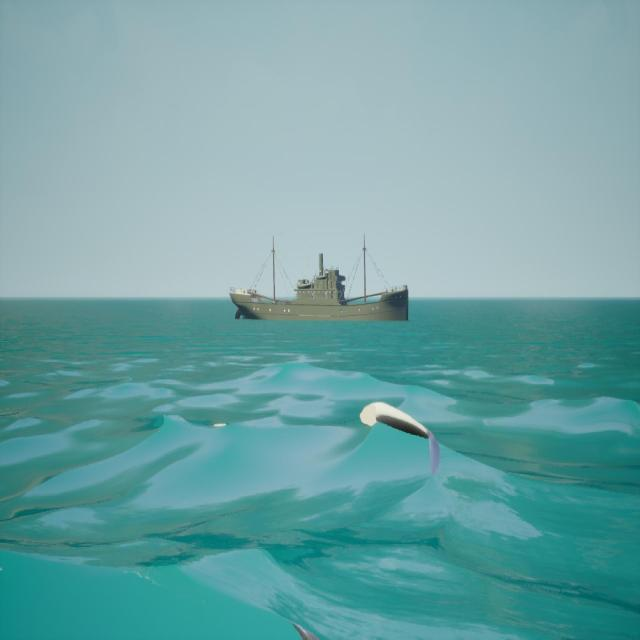fishing ship: (229, 233, 413, 324)
